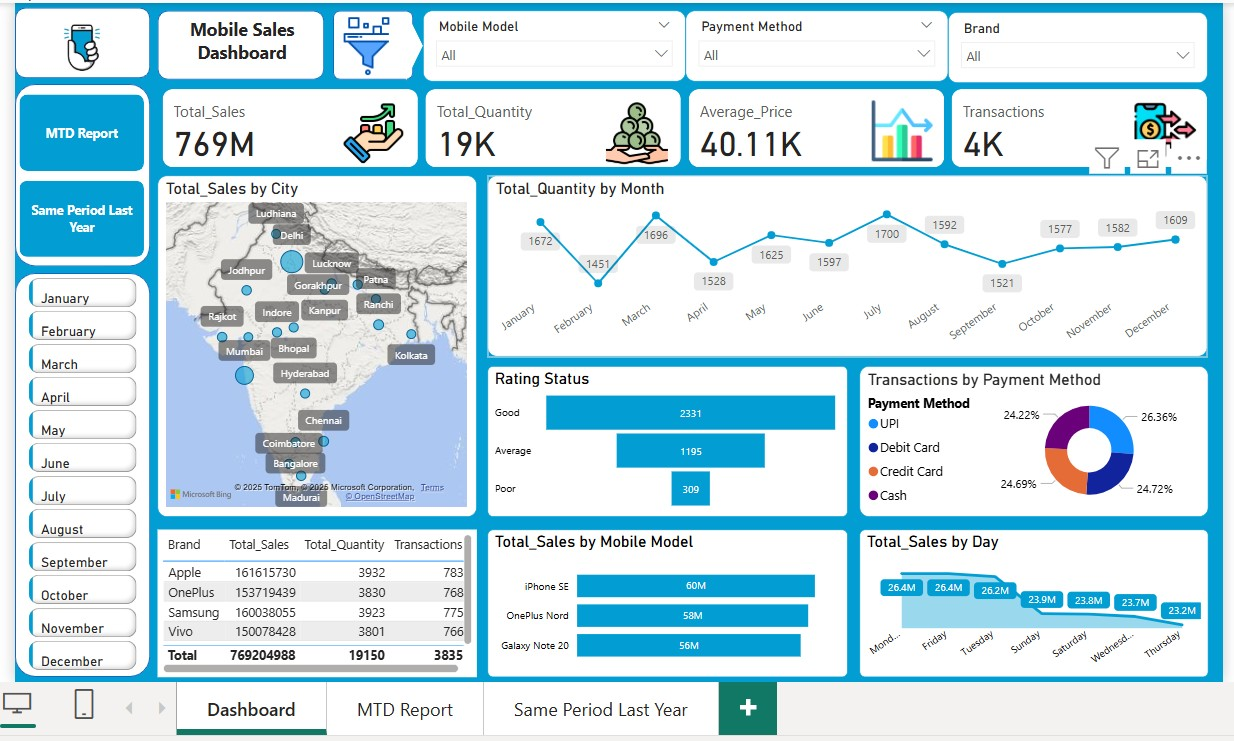

Layout of this report page (visuals, bound fields, positions):
{"tool":"powerbi","page":{"name":"Dashboard","canvas":[1280,720],"ordinal":0},"visuals":[{"type":"shape","box":[0,5,143.3,75],"z":0},{"type":"image","box":[33.3,8.3,75,75],"z":1000},{"type":"shape","box":[0,86.7,143.3,193.3],"z":2000},{"type":"shape","box":[0,286.7,143.3,428.3],"z":3000},{"type":"advancedSlicerVisual","fields":{"Values":["Custom_calendar.Date.Variation.Date Hierarchy.Month"]},"box":[9.5,286.3,124.1,434.2],"z":4000},{"type":"cardVisual","fields":{"Data":["Sales_Data.Total_Sales","Sales_Data.Total_Quantity","Sales_Data.Average_Price","Sales_Data.Transactions"]},"box":[151.7,86.7,1121.7,93.3],"z":5000},{"type":"slicer","fields":{"Values":["Sales_Data.Mobile Model"]},"box":[433.3,8.3,278.3,75],"z":6000},{"type":"slicer","fields":{"Values":["Sales_Data.Payment Method"]},"box":[711.7,8.3,278.3,75],"z":7000},{"type":"slicer","fields":{"Values":["Sales_Data.Brand"]},"box":[990,10,275,75],"z":8000},{"type":"shape","box":[336.7,8.3,85,73.3],"z":9000},{"type":"image","box":[336.7,5,73.3,81.7],"z":10000},{"type":"shape","box":[396.7,8.3,36.7,75],"z":11000},{"type":"shape","box":[151.7,8.3,176.7,73.3],"z":12000},{"type":"textbox","box":[160,10,160,71.7],"z":13000},{"type":"map","fields":{"Category":["Sales_Data.City"],"Size":["Sales_Data.Total_Sales"]},"box":[151.7,183.3,338.3,361.7],"z":14000},{"type":"lineChart","fields":{"Y":["Sales_Data.Total_Quantity"],"Category":["Custom_calendar.Date.Variation.Date Hierarchy.Month"]},"box":[501.7,183.3,763.3,191.7],"z":15000},{"type":"funnel","title":"Rating Status","fields":{"Y":["CountNonNull(Sales_Data.Rating Status)"],"Category":["Sales_Data.Rating Status"]},"box":[501.7,385,381.7,160],"z":16000},{"type":"donutChart","fields":{"Category":["Sales_Data.Payment Method"],"Y":["Sales_Data.Transactions"]},"box":[895,385,370,160],"z":17000},{"type":"clusteredBarChart","fields":{"Y":["Sales_Data.Total_Sales"],"Category":["Sales_Data.Mobile Model"]},"box":[501.7,558.3,381.7,156.7],"z":18000},{"type":"areaChart","title":"Total_Sales by Day","fields":{"Y":["Sales_Data.Total_Sales"],"Category":["Custom_calendar.Day Name"]},"box":[895,558.3,370,156.7],"z":19000},{"type":"tableEx","fields":{"Values":["Sales_Data.Brand","Sales_Data.Total_Sales","Sales_Data.Total_Quantity","Sales_Data.Transactions"]},"box":[151.7,558.3,338.3,156.7],"z":20000},{"type":"pageNavigator","box":[4.8,97,132,173.4],"z":21000}]}

Visuals, with their boxes on the page's 1280x720 design canvas (x1, y1, x2, y2). These are canvas units, not pixel positions in the 1234x741 screenshot, which may show the page scaled, cropped or inside an application window:
shape: 0 5 143 80
image: 33 8 108 83
shape: 0 87 143 280
shape: 0 287 143 715
advancedSlicerVisual - Custom_calendar.Date.Variation.Date Hierarchy.Month: 10 286 134 720
cardVisual - Sales_Data.Total_Sales x Sales_Data.Total_Quantity: 152 87 1273 180
slicer - Sales_Data.Mobile Model: 433 8 712 83
slicer - Sales_Data.Payment Method: 712 8 990 83
slicer - Sales_Data.Brand: 990 10 1265 85
shape: 337 8 422 82
image: 337 5 410 87
shape: 397 8 433 83
shape: 152 8 328 82
textbox: 160 10 320 82
map - Sales_Data.City x Sales_Data.Total_Sales: 152 183 490 545
lineChart - Sales_Data.Total_Quantity x Custom_calendar.Date.Variation.Date Hierarchy.Month: 502 183 1265 375
"Rating Status" funnel: 502 385 883 545
donutChart - Sales_Data.Payment Method x Sales_Data.Transactions: 895 385 1265 545
clusteredBarChart - Sales_Data.Total_Sales x Sales_Data.Mobile Model: 502 558 883 715
"Total_Sales by Day" areaChart: 895 558 1265 715
tableEx - Sales_Data.Brand x Sales_Data.Total_Sales: 152 558 490 715
pageNavigator: 5 97 137 270
